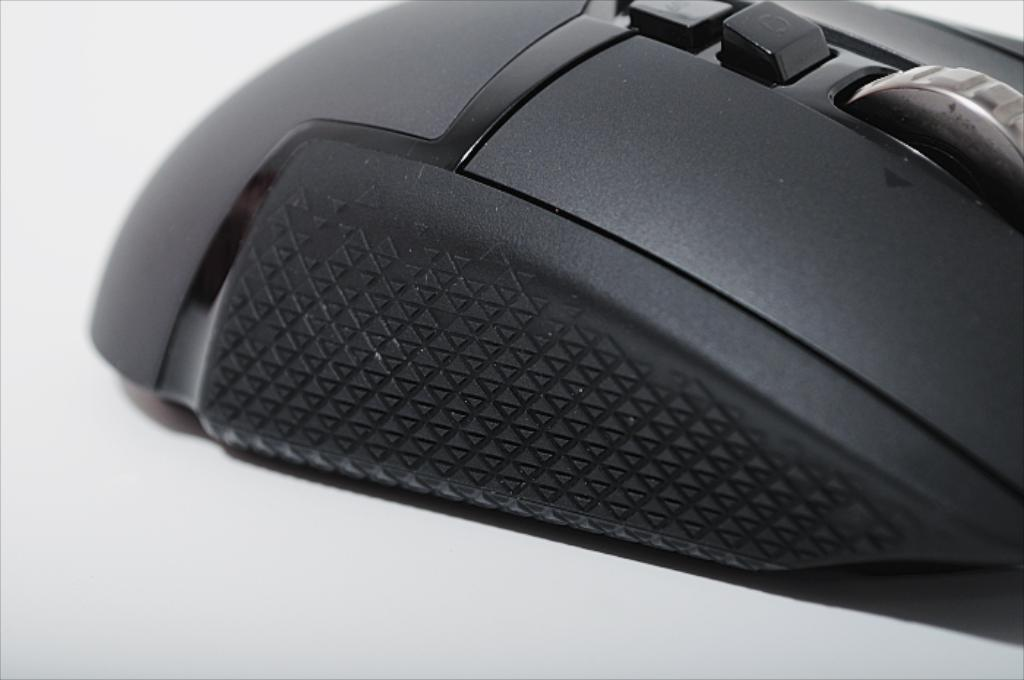Computer-mouse: (89, 0, 1020, 588)
